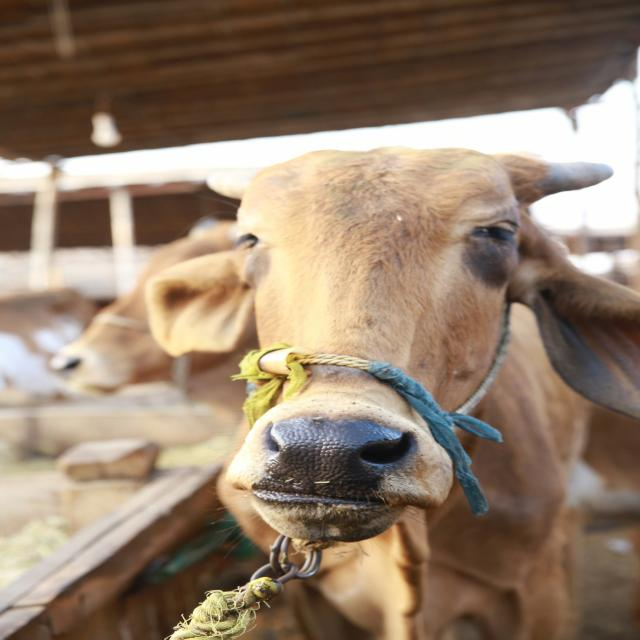muzzles: (254, 410, 431, 513)
